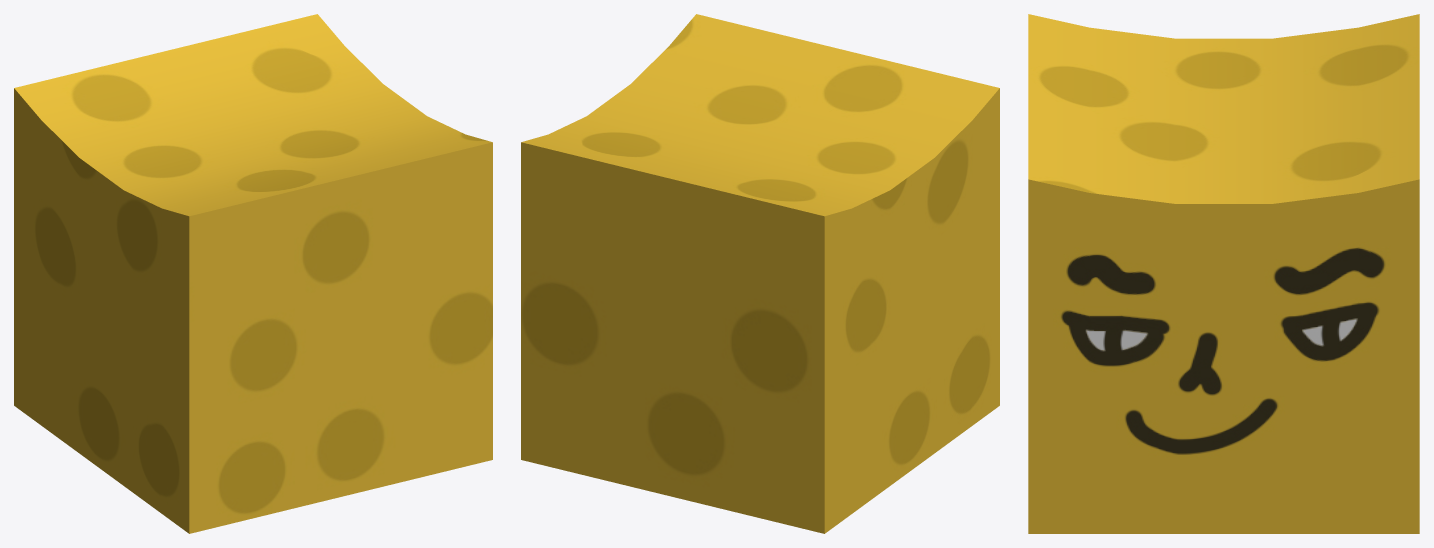
The model's file is cheeze.fbx.
3 views of the same model, side by side, from view 1: azimuth 30°, elevation 25°; view 2: azimuth 150°, elevation 25°; view 3: azimuth 270°, elevation 25° (orthographic). The views are drawn at different scales.
Parts seen in each view (by area): view 1: Cube; view 2: Cube; view 3: Cube.
Part boxes in pixels (x1,y1,x2,y2): Cube: [14, 14, 492, 533]; Cube: [521, 14, 999, 533]; Cube: [1028, 14, 1419, 533].
Size of the model in its own units: 200 by 200 by 200.
